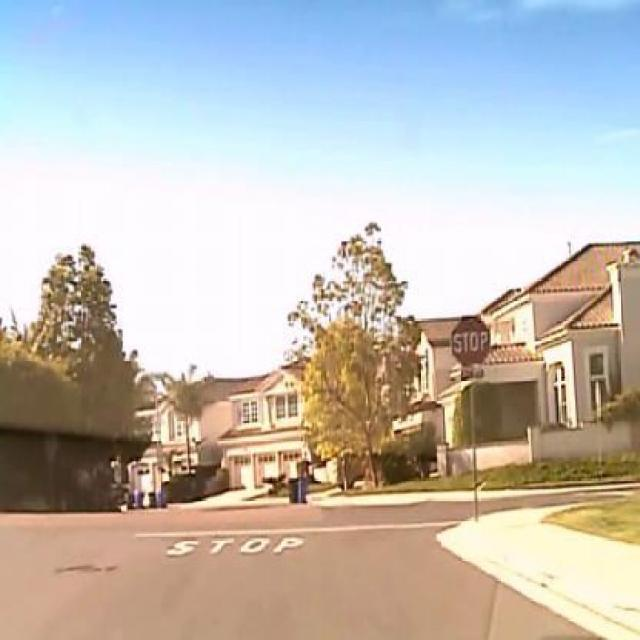Stop: (452, 314, 492, 366)
